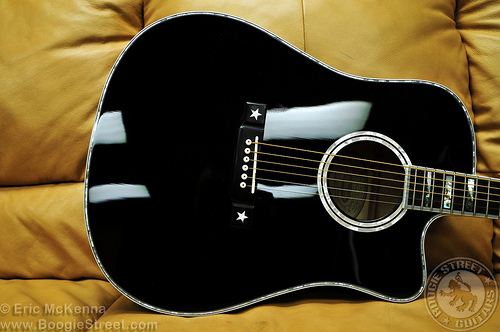guitar: (84, 7, 500, 318)
